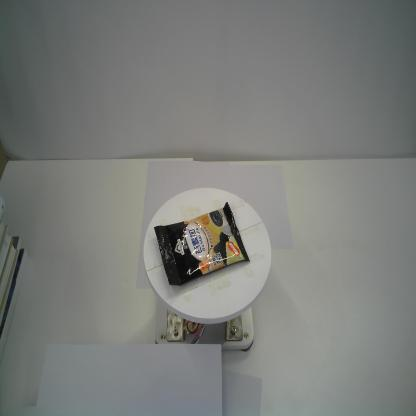Instant Drink: (154, 201, 250, 286)
